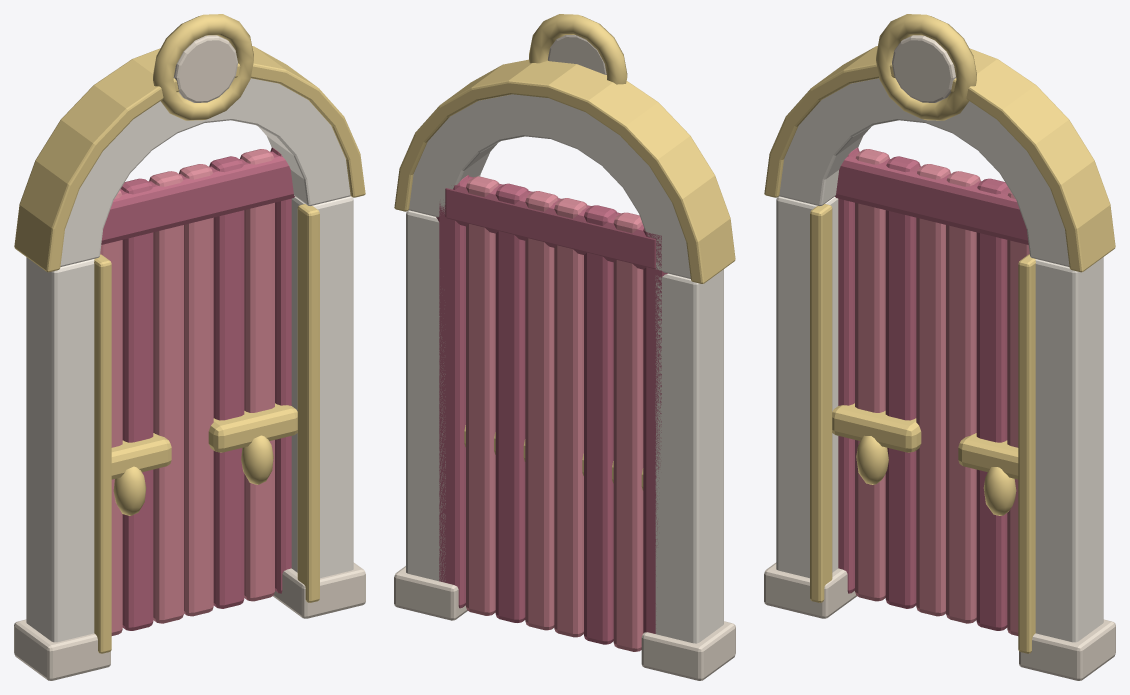
The model's file is opera_portal_closed.glb.
3 renders of one model, left to right at view 1: azimuth 30°, elevation 25°; view 2: azimuth 150°, elevation 25°; view 3: azimuth 330°, elevation 25°, orthographic. The views are drawn at different scales.
Visible parts, largest first — view 1: opera_portal_closed.001; view 2: opera_portal_closed.001; view 3: opera_portal_closed.001.
Part boxes in pixels (bbox=[...]): opera_portal_closed.001: bbox=[14, 14, 365, 680]; opera_portal_closed.001: bbox=[394, 14, 735, 680]; opera_portal_closed.001: bbox=[764, 14, 1115, 680].
Size of the model in its own units: 7.51 by 14.09 by 1.6.
